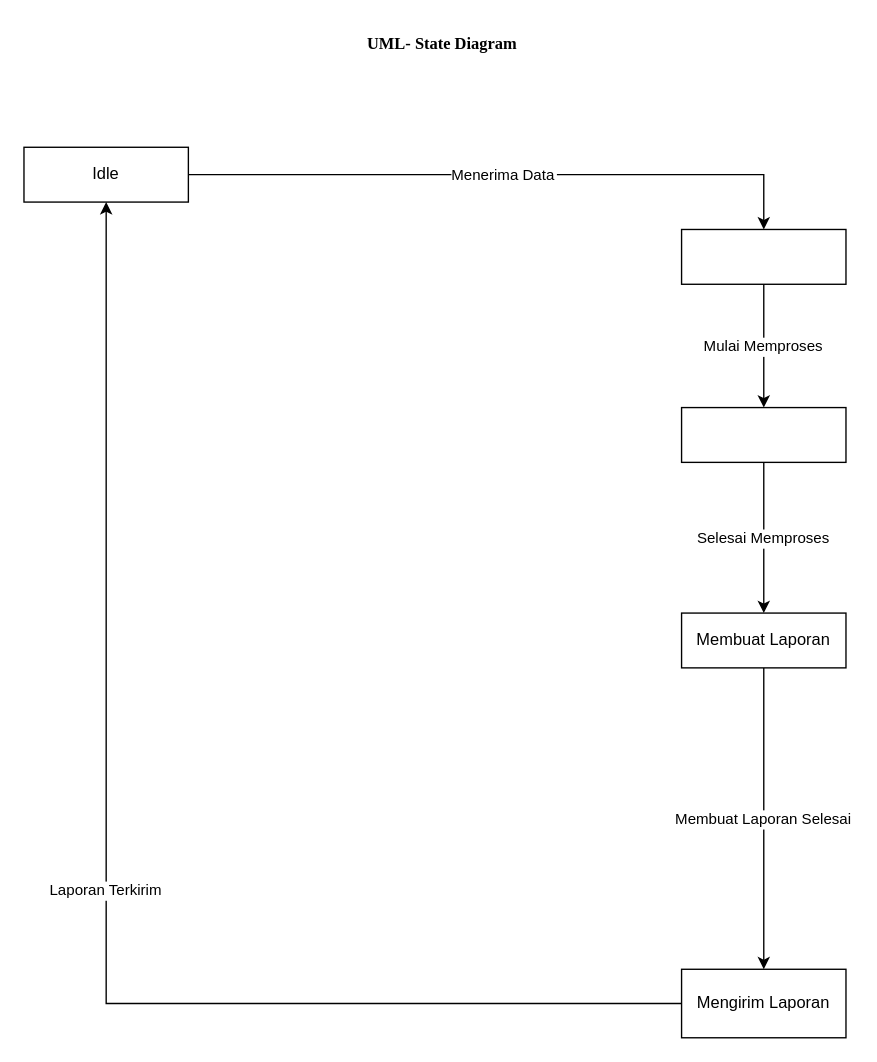
Image size: 877x1062. Some labels were removed from this diagram. The shapes that lost their labels are listed below. From the top down, each one's centre as x and y in pixels, then its label:
pixel 763 256: Menunggu Data
pixel 763 434: Memproses Data
